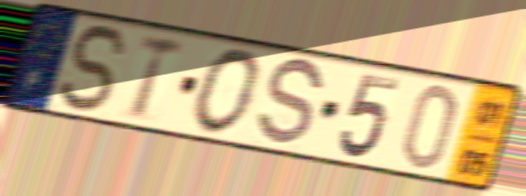0: (398, 82, 460, 172)
5: (337, 71, 405, 160)
O: (189, 45, 267, 138)
S: (58, 22, 134, 116), (252, 56, 326, 150)
T: (129, 31, 188, 124)
